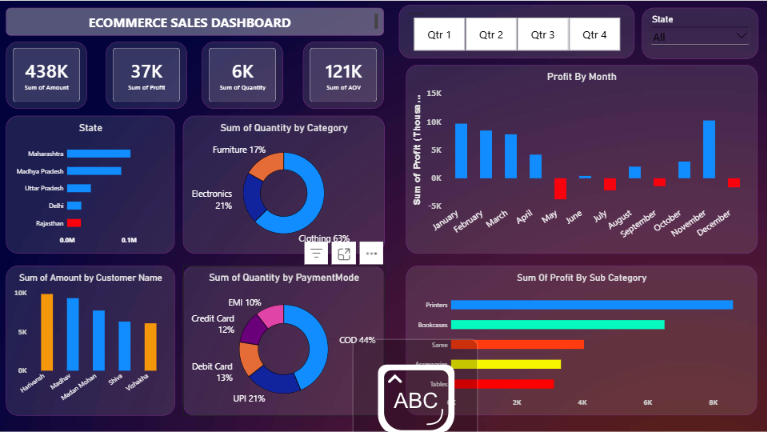

The page's visual inventory and layout, read from the dashboard file:
{"tool":"powerbi","page":{"name":"Page 1","canvas":[1920,1080],"ordinal":0},"visuals":[{"type":"textbox","box":[14.4,16.5,944.8,70],"z":0},{"type":"columnChart","title":"Profit By Month ","fields":{"Category":["Orders.Order_Date.Variation.Date Hierarchy.Month"],"Y":["Sum(Details.Profit)"]},"box":[1016,160.1,878,472],"z":1000},{"type":"barChart","title":"Sum Of Profit By Sub Category","fields":{"Category":["Details.Sub-Category"],"Y":["Sum(Details.Profit)"]},"box":[1016,662.6,877.9,373.6],"z":2000},{"type":"donutChart","fields":{"Category":["Details.Category"],"Y":["Sum(Details.Quantity)"]},"box":[456.4,287.1,504,344],"z":3000},{"type":"donutChart","fields":{"Category":["Details.PaymentMode"],"Y":["Sum(Details.Quantity)"]},"box":[456.4,662.6,504,374],"z":4000},{"type":"cardVisual","fields":{"Data":["Sum(Details.Amount)"]},"box":[14.7,103.1,202.5,167.5],"z":5000},{"type":"cardVisual","fields":{"Data":["Sum(Details.Profit)"]},"box":[265,103.1,202.5,167.5],"z":6000},{"type":"cardVisual","fields":{"Data":["Sum(Details.Quantity)"]},"box":[506.1,103.1,202.5,167.5],"z":7000},{"type":"cardVisual","fields":{"Data":["Sum(Details.AOV)"]},"box":[758.3,103.1,202.5,167.5],"z":8000},{"type":"barChart","title":"State","fields":{"Category":["Orders.State"],"Y":["Sum(Details.Amount)"]},"box":[14.4,288.2,422,343.7],"z":9000},{"type":"columnChart","fields":{"Category":["Orders.Customer Name"],"Y":["Sum(Details.Amount)"]},"box":[14,663,422,374],"z":10000},{"type":"slicer","fields":{"Values":["Orders.Order_Date.Variation.Date Hierarchy.Quarter"]},"box":[998.3,10.3,588.7,133.8],"z":11000},{"type":"slicer","fields":{"Values":["Orders.State"]},"box":[1605.5,16.5,290.2,127.6],"z":12000}]}

Visuals, with their boxes in screenshot pixels (x1, y1, x2, y2), scaled from the page's 1920x1080 canvas onto the 767x432 screenshot:
textbox: box=[6, 7, 383, 35]
"Profit By Month " columnChart: box=[406, 64, 757, 253]
"Sum Of Profit By Sub Category" barChart: box=[406, 265, 757, 414]
donutChart - Details.Category x Sum(Details.Quantity): box=[182, 115, 384, 252]
donutChart - Details.PaymentMode x Sum(Details.Quantity): box=[182, 265, 384, 415]
cardVisual - Sum(Details.Amount): box=[6, 41, 87, 108]
cardVisual - Sum(Details.Profit): box=[106, 41, 187, 108]
cardVisual - Sum(Details.Quantity): box=[202, 41, 283, 108]
cardVisual - Sum(Details.AOV): box=[303, 41, 384, 108]
"State" barChart: box=[6, 115, 174, 253]
columnChart - Orders.Customer Name x Sum(Details.Amount): box=[6, 265, 174, 415]
slicer - Orders.Order_Date.Variation.Date Hierarchy.Quarter: box=[399, 4, 634, 58]
slicer - Orders.State: box=[641, 7, 757, 58]
